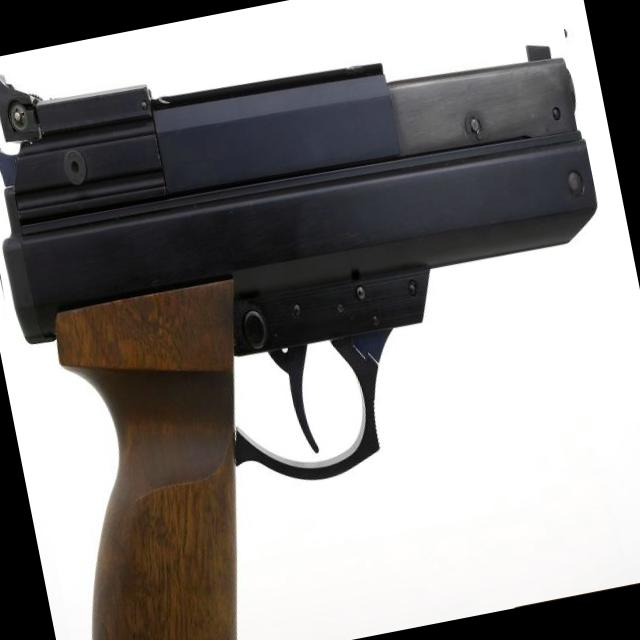Gun: (0, 48, 596, 640)
